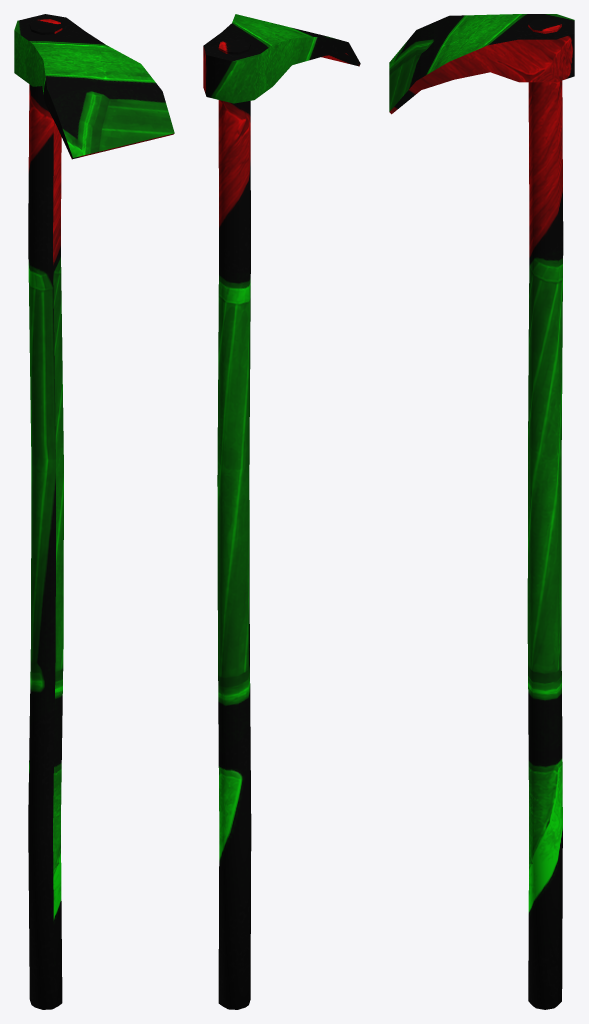
Rendered from Hoe01.fbx.
3 renders of one model, left to right at view 1: azimuth 30°, elevation 25°; view 2: azimuth 150°, elevation 25°; view 3: azimuth 270°, elevation 25°, orthographic. The views are drawn at different scales.
Parts seen in each view (by area): view 1: Hoe01_LOD0; view 2: Hoe01_LOD0; view 3: Hoe01_LOD0.
Boxes of the visible parts, bbox=[...] form: Hoe01_LOD0: bbox=[14, 14, 174, 1009]; Hoe01_LOD0: bbox=[203, 14, 360, 1009]; Hoe01_LOD0: bbox=[389, 14, 574, 1009].
Size of what is drawn, in the model's own units: 0.1206 by 1.08 by 0.185.
